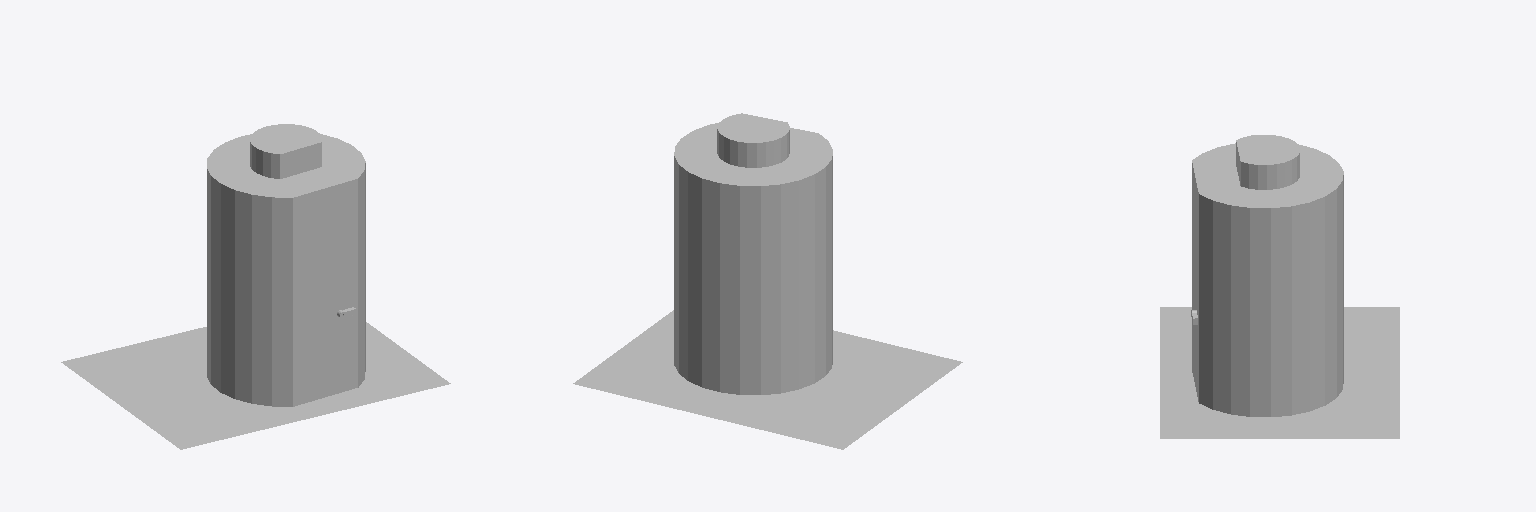
File: radiationRoom.obj
3 views of the same model, side by side, from view 1: azimuth 30°, elevation 25°; view 2: azimuth 150°, elevation 25°; view 3: azimuth 270°, elevation 25° (orthographic).
Parts seen in each view (by area): view 1: Mesh1 Model; view 2: Mesh1 Model; view 3: Mesh1 Model.
Boxes of the visible parts, x1=… form: Mesh1 Model: x1=61, y1=124, x2=450, y2=449; Mesh1 Model: x1=573, y1=113, x2=962, y2=449; Mesh1 Model: x1=1160, y1=135, x2=1399, y2=438.
Size of the model in its own units: 4361 by 3605 by 3351.